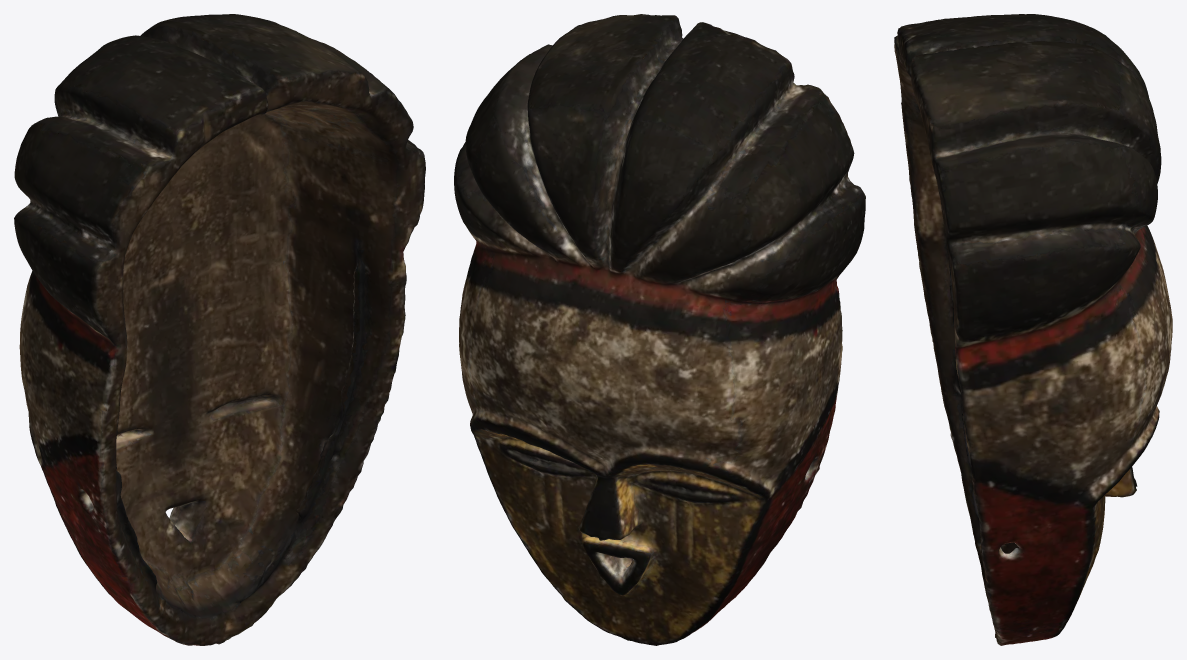
Rendered from preview.glb.
3 renders of one model, left to right at view 1: azimuth 30°, elevation 25°; view 2: azimuth 150°, elevation 25°; view 3: azimuth 270°, elevation 25°, orthographic. The views are drawn at different scales.
Visible parts, largest first — view 1: Object_2; view 2: Object_2; view 3: Object_2.
Part boxes in pixels (bbox=[...]): Object_2: bbox=[14, 14, 425, 645]; Object_2: bbox=[454, 14, 865, 645]; Object_2: bbox=[894, 14, 1172, 645].
Bounding box in the file's own units: 225 × 347 × 147.
Materials: 1 (1 with a texture image).
